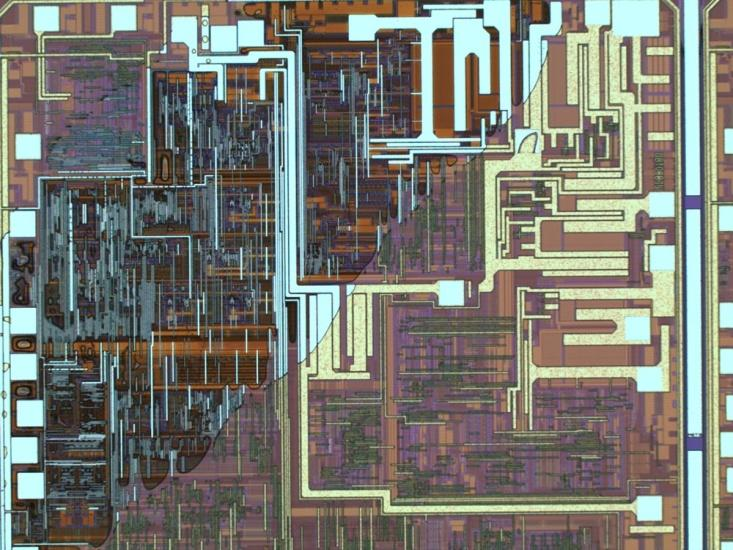COATING BAD: (2, 1, 586, 550)
